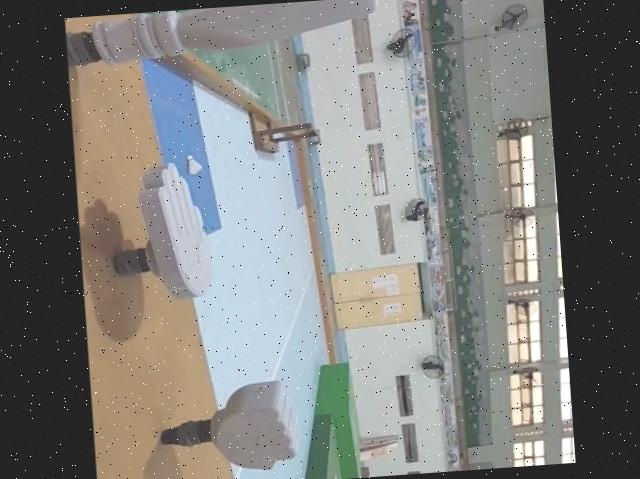Fist: (159, 374, 301, 475)
Hand: (103, 162, 223, 307)
Sph: (64, 0, 382, 72)
